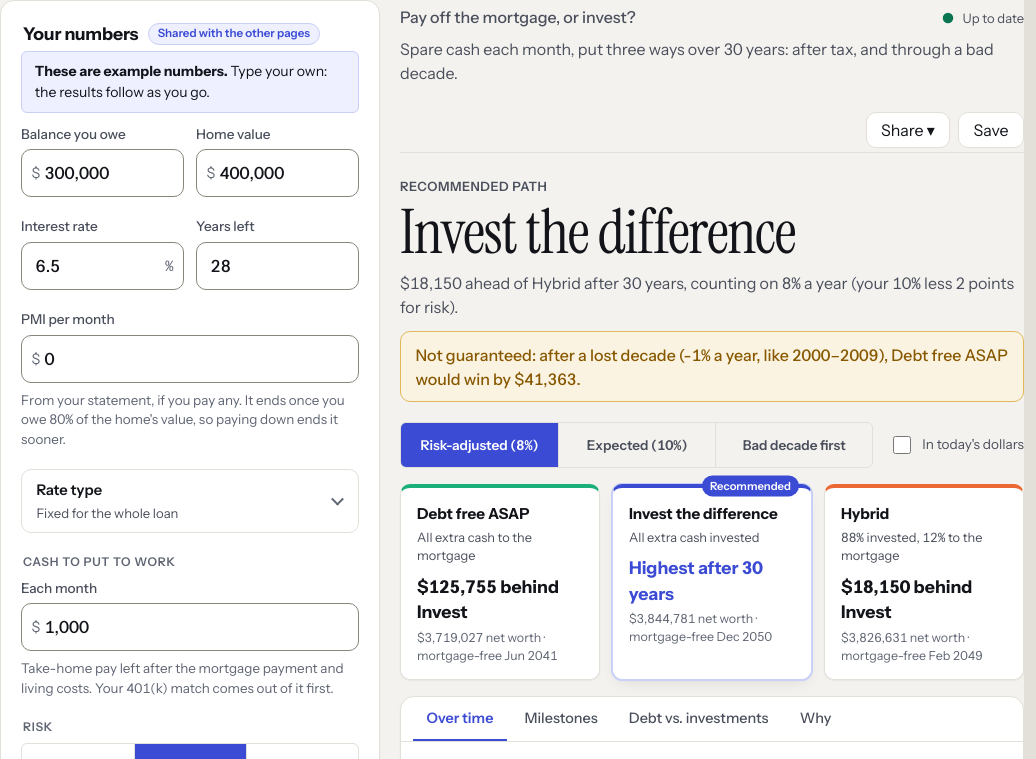
Test: StrategyPageComponent › offers to save the comparison, with a suggested name
What coordinates should you click on to do the following:
click the button with test id "save-open"
I would click on:
 (991, 130)
Its box is [958,112,1024,148].
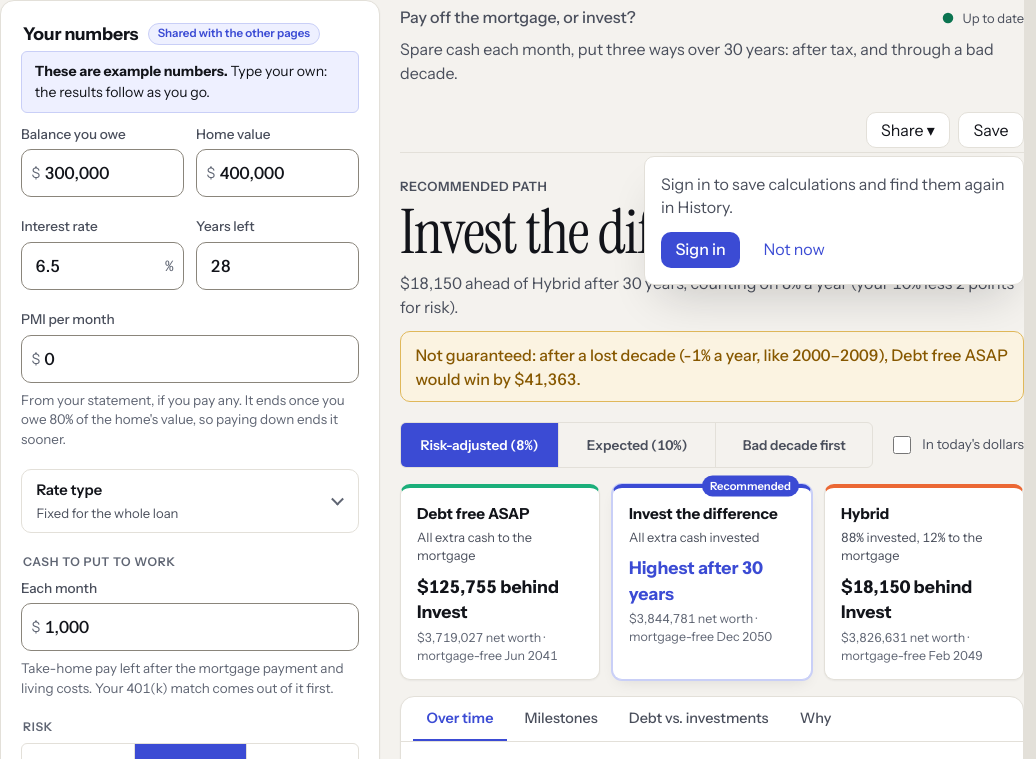
Result: the element with test id "save-sign-in" is shown at [644,156,1024,285]
